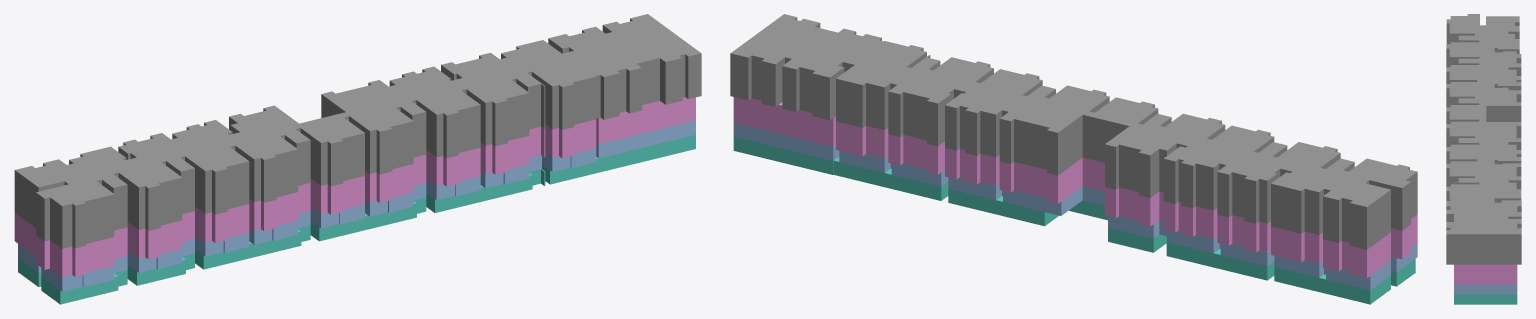
The model's file is building_2.glb.
3 renders of one model, left to right at view 1: azimuth 30°, elevation 25°; view 2: azimuth 150°, elevation 25°; view 3: azimuth 270°, elevation 25°, orthographic. The views are drawn at different scales.
Visible parts, largest first — view 1: Line007, Line003, Line001, Line002, Line005, Line006, Line004, flat_409, flat_509, flat_209, flat_309, flat_609 (+63 smaller); view 2: Line007, Line001, Line003, Line005, Line002, Line006, Line004, flat_615, flat_215, flat_315, flat_515, flat_415 (+60 smaller); view 3: Line007, Line001, Line002, Line003, Line005, flat_621, flat_614, flat_421, flat_521, flat_620, flat_420, flat_520 (+20 smaller).
Boxes of the visible parts, left/top/right/bottom form: Line007: left=15, top=14, right=701, bottom=206; Line003: left=14, top=106, right=695, bottom=263; Line001: left=18, top=135, right=695, bottom=290; Line002: left=18, top=120, right=695, bottom=277; Line005: left=15, top=97, right=695, bottom=249; Line006: left=14, top=67, right=701, bottom=220; Line004: left=15, top=82, right=701, bottom=235; flat_409: left=36, top=222, right=114, bottom=248; flat_509: left=36, top=207, right=114, bottom=234; flat_209: left=36, top=250, right=114, bottom=277; flat_309: left=36, top=236, right=114, bottom=262; flat_609: left=36, top=193, right=114, bottom=220; Line007: left=730, top=14, right=1417, bottom=207; Line001: left=733, top=136, right=1415, bottom=293; Line003: left=733, top=108, right=1417, bottom=264; Line005: left=733, top=97, right=1417, bottom=250; Line002: left=733, top=122, right=1417, bottom=276; Line006: left=730, top=67, right=1417, bottom=221; Line004: left=730, top=82, right=1417, bottom=235; flat_615: left=999, top=115, right=1082, bottom=146; flat_215: left=999, top=172, right=1082, bottom=203; flat_315: left=999, top=158, right=1082, bottom=189; flat_515: left=999, top=130, right=1082, bottom=161; flat_415: left=999, top=144, right=1082, bottom=175; Line007: left=1446, top=14, right=1521, bottom=234; Line001: left=1454, top=294, right=1517, bottom=304; Line002: left=1454, top=284, right=1517, bottom=294; Line003: left=1454, top=274, right=1517, bottom=284; Line005: left=1454, top=264, right=1517, bottom=274; flat_621: left=1446, top=228, right=1485, bottom=244; flat_614: left=1486, top=95, right=1521, bottom=115; flat_421: left=1446, top=255, right=1485, bottom=264; flat_521: left=1446, top=245, right=1485, bottom=254; flat_620: left=1486, top=224, right=1521, bottom=244; flat_420: left=1486, top=255, right=1521, bottom=264; flat_520: left=1486, top=245, right=1521, bottom=254.
Size of the model in its own units: 1.41 by 0.2108 by 0.2047.
